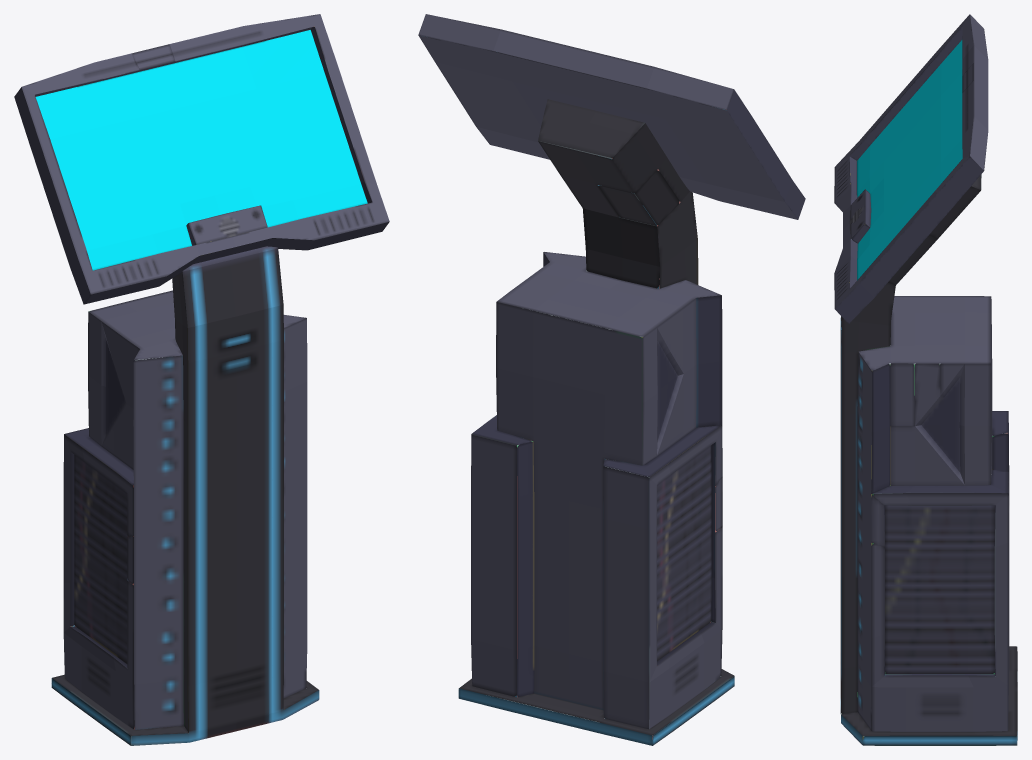
The model's file is TerminalFbx.fbx.
The picture shows the model from 3 angles, left to right: view 1: azimuth 30°, elevation 25°; view 2: azimuth 150°, elevation 25°; view 3: azimuth 270°, elevation 25°; orthographic projection. The views are drawn at different scales.
Visible parts, largest first — view 1: Cube.001, Cube.002; view 2: Cube.001, Cube.002; view 3: Cube.001, Cube.002.
Boxes of the visible parts, x1,y1,x2,y2 form: Cube.001: (51, 246, 319, 745); Cube.002: (14, 14, 389, 304); Cube.001: (458, 99, 734, 745); Cube.002: (418, 14, 805, 219); Cube.001: (840, 174, 1017, 745); Cube.002: (834, 14, 988, 323).
Bounding box in the file's own units: 976 × 1986 × 531.
